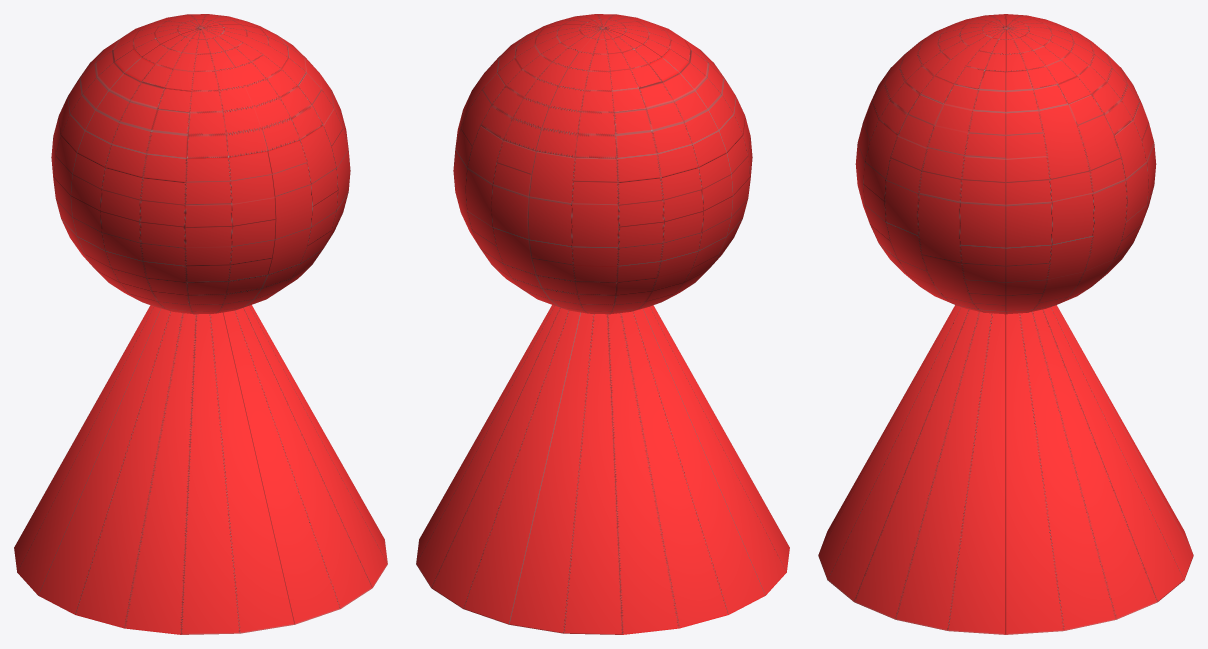
The model's file is Player1.fbx.
3 views of the same model, side by side, from view 1: azimuth 30°, elevation 25°; view 2: azimuth 150°, elevation 25°; view 3: azimuth 270°, elevation 25° (orthographic).
Parts seen in each view (by area): view 1: pCone2; view 2: pCone2; view 3: pCone2.
Part boxes in pixels (left/top/right/bottom): pCone2: left=14, top=14, right=387, bottom=634; pCone2: left=416, top=14, right=789, bottom=634; pCone2: left=818, top=14, right=1193, bottom=634.
Bounding box in the file's own units: 2 × 3.1 × 2.
Materials: 1 (1 with a texture image).
